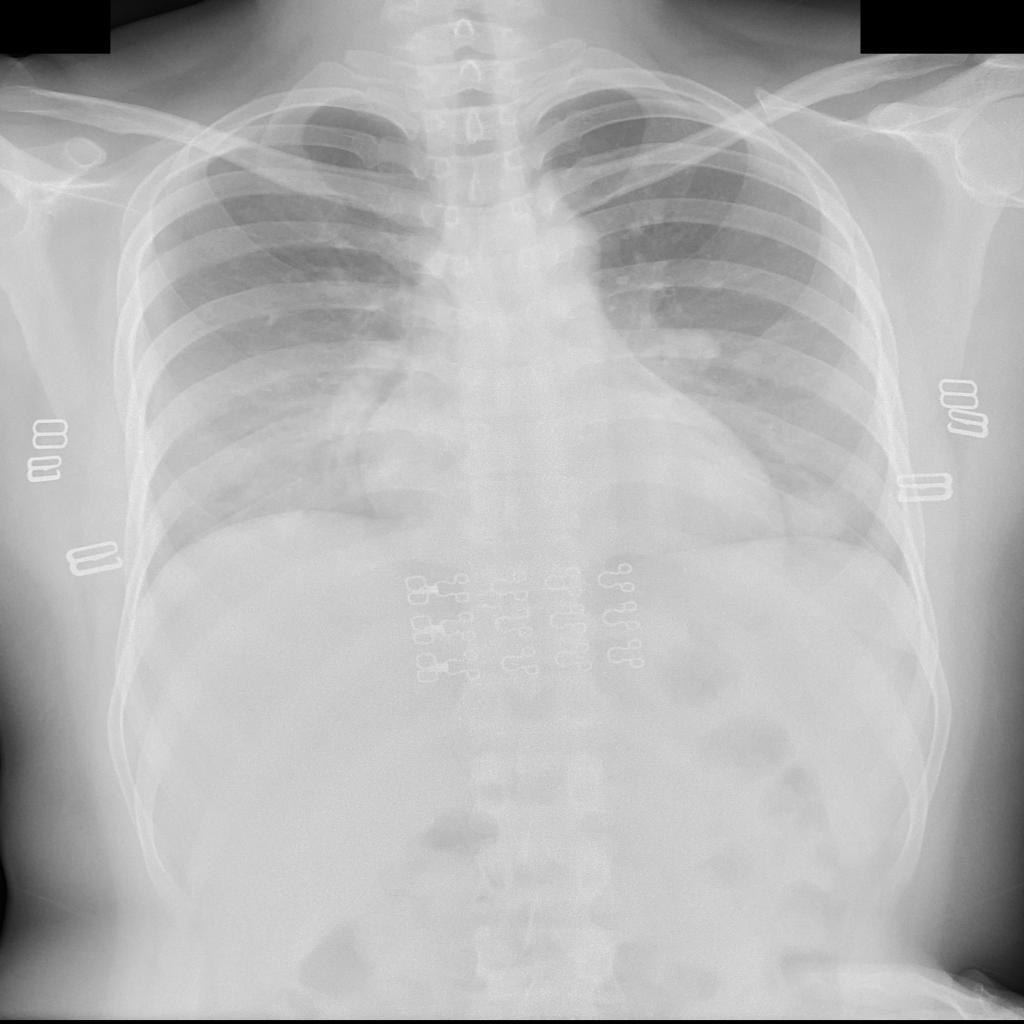Nodule: (776, 492, 852, 543), (705, 461, 775, 515), (663, 327, 721, 375), (733, 349, 763, 375)
